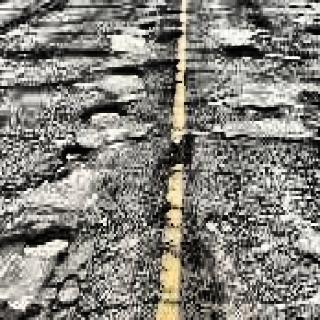pothole: (0, 222, 74, 320), (80, 98, 123, 121), (222, 41, 264, 62), (62, 142, 90, 164), (110, 63, 142, 78), (81, 47, 110, 57), (139, 20, 158, 32)
